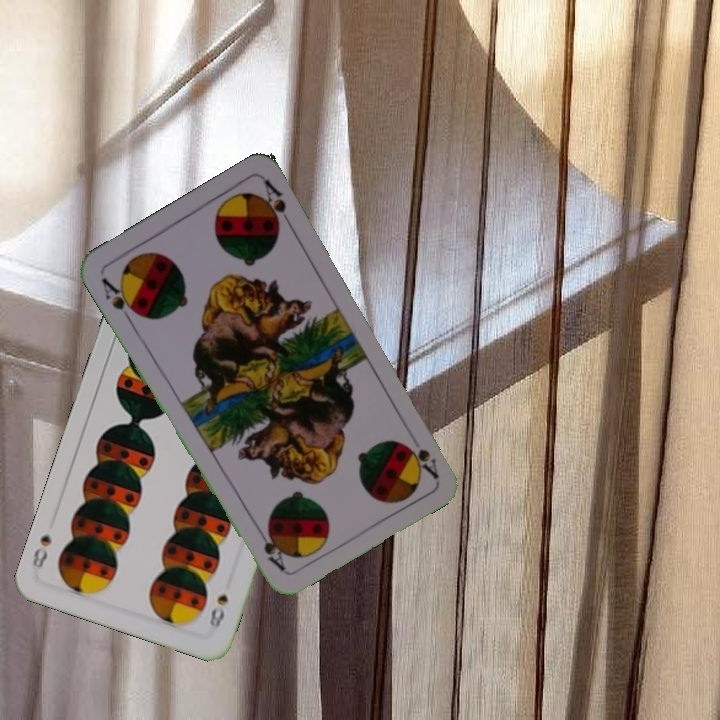S8: (205, 590, 231, 633)
SA: (97, 274, 142, 325), (408, 445, 441, 481)
